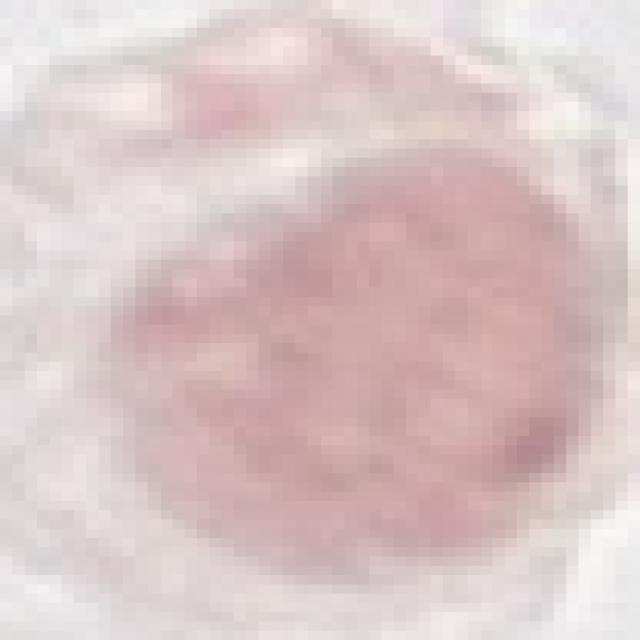cytoplasm: (0, 109, 628, 631)
